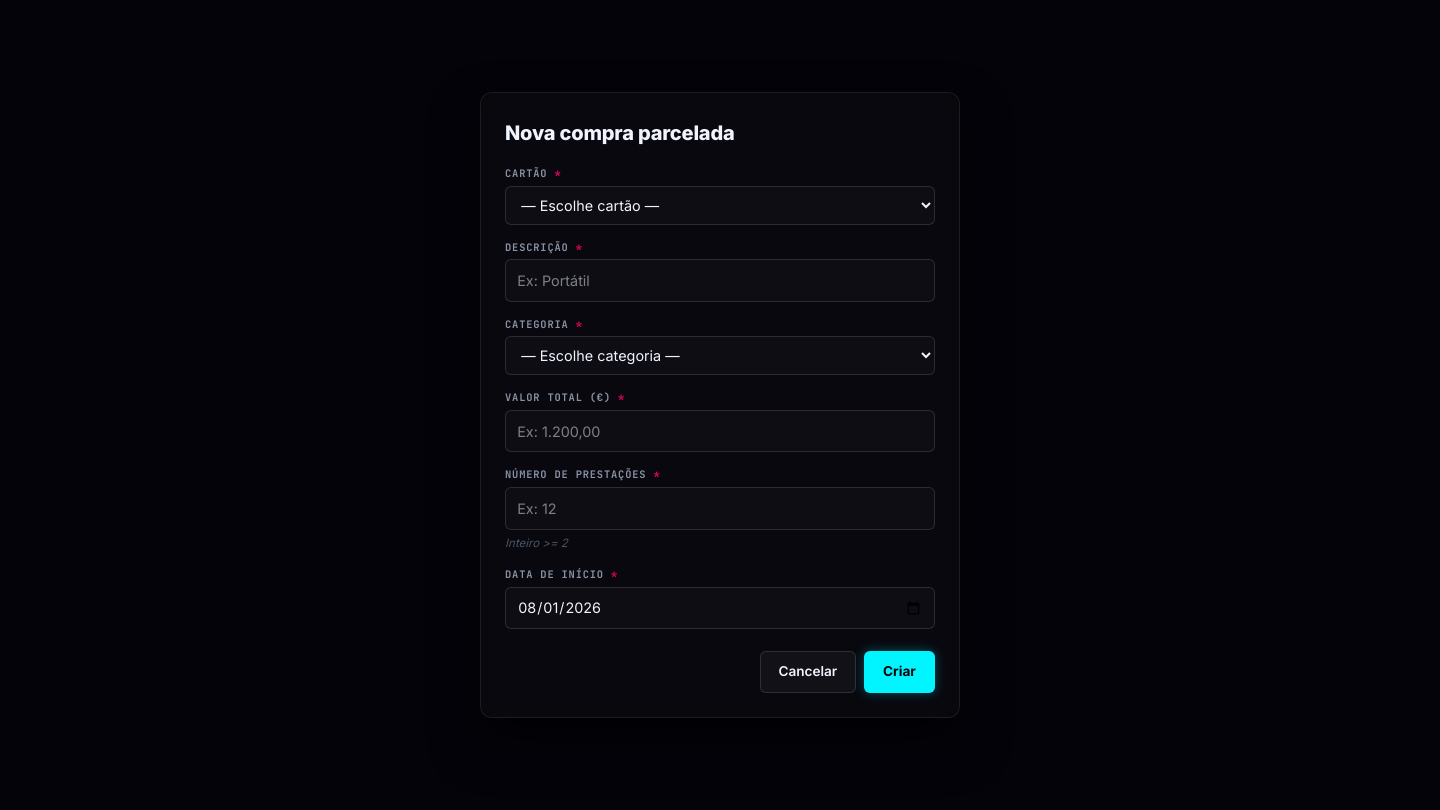
Test case: InstallmentFormModal (Story 9.1b / cobertura finanças) › preview em vivo — total + prestações mostra "N× de €X"
In the field with id "installment-total": (720, 431) [505, 410, 935, 452], type "120,00"
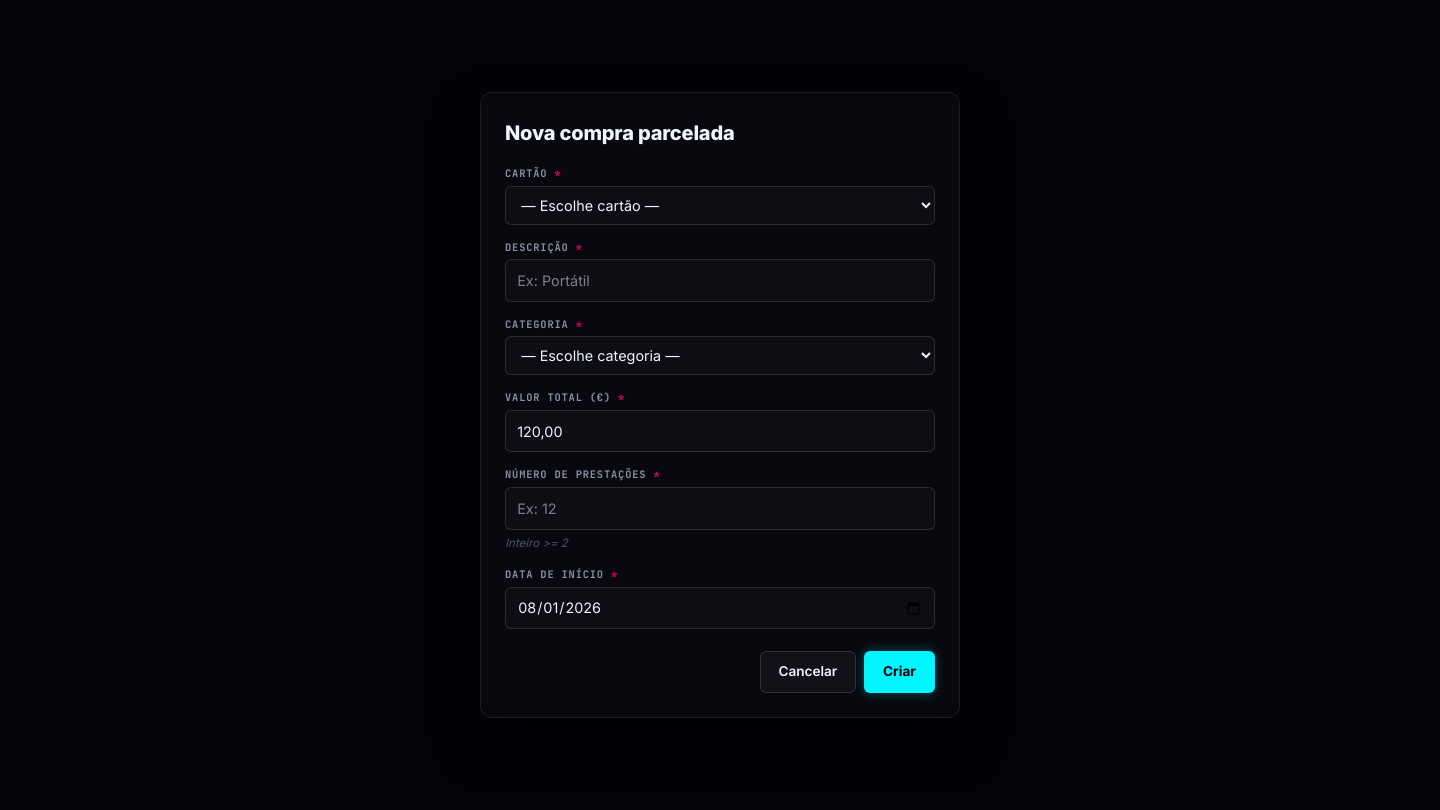
In the number field with id "installment-count": (720, 508) [505, 487, 935, 530], type "12"
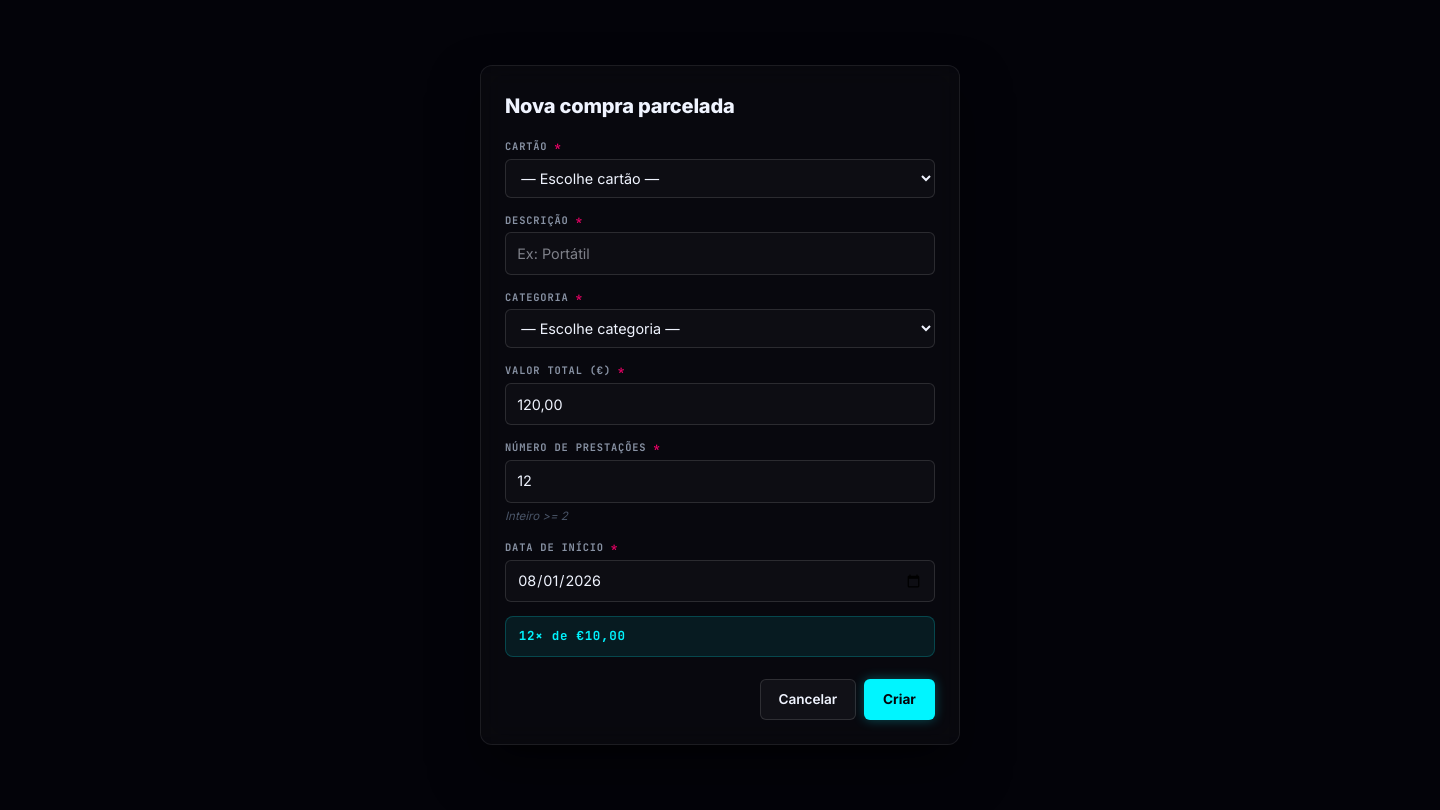
Expected: the message with test id "installments-preview" reads "12× de €10,00", [519, 627, 626, 644]
